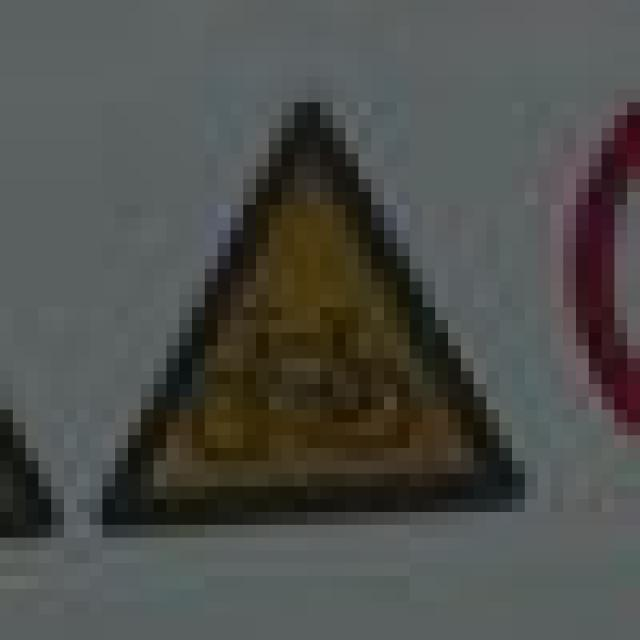CYCLE_CROSSING: (90, 90, 512, 512)
